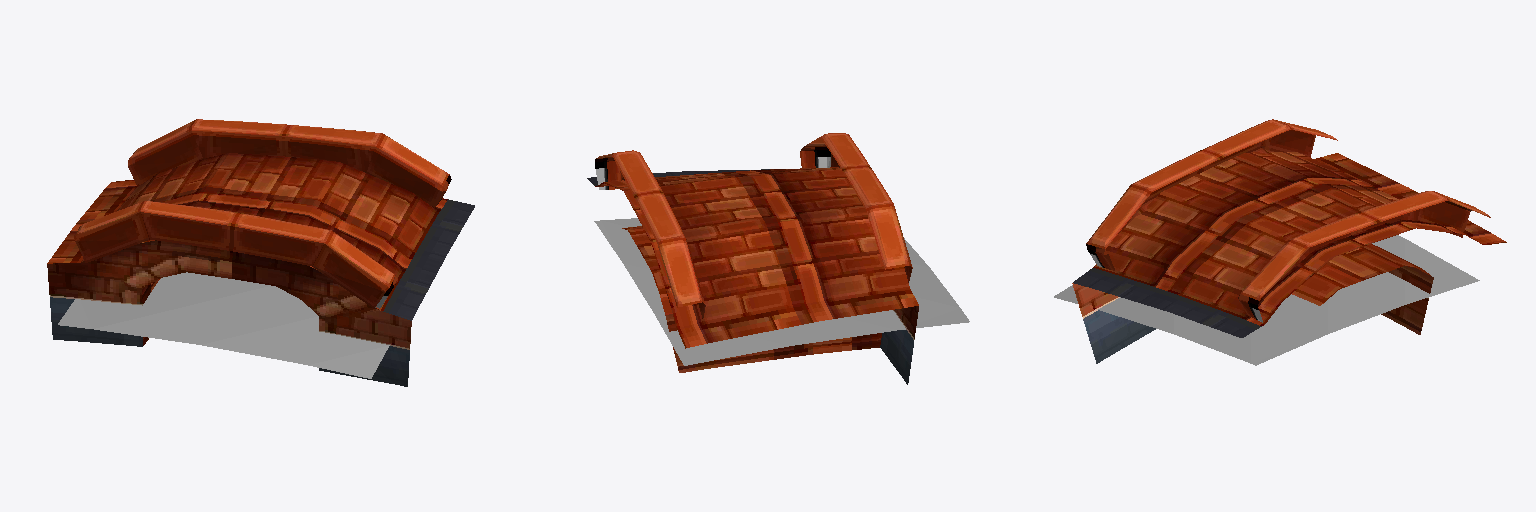
3 views of the same model, side by side, from view 1: azimuth 30°, elevation 25°; view 2: azimuth 150°, elevation 25°; view 3: azimuth 270°, elevation 25° (orthographic).
Visible parts, largest first — view 1: vsn_mesh_0__mesh_0_.002, vsn_mesh_1__mesh_1_.002; view 2: vsn_mesh_0__mesh_0_.002, vsn_mesh_1__mesh_1_.002; view 3: vsn_mesh_0__mesh_0_.002, vsn_mesh_1__mesh_1_.002.
Boxes of the visible parts, x1=… form: vsn_mesh_0__mesh_0_.002: x1=47, y1=119, x2=474, y2=386; vsn_mesh_1__mesh_1_.002: x1=58, y1=272, x2=389, y2=378; vsn_mesh_0__mesh_0_.002: x1=587, y1=133, x2=918, y2=384; vsn_mesh_1__mesh_1_.002: x1=594, y1=218, x2=969, y2=365; vsn_mesh_0__mesh_0_.002: x1=1072, y1=119, x2=1506, y2=363; vsn_mesh_1__mesh_1_.002: x1=1054, y1=235, x2=1479, y2=365.
Bounding box in the file's own units: 185 × 69.54 × 182.
2 materials, 1 textured.